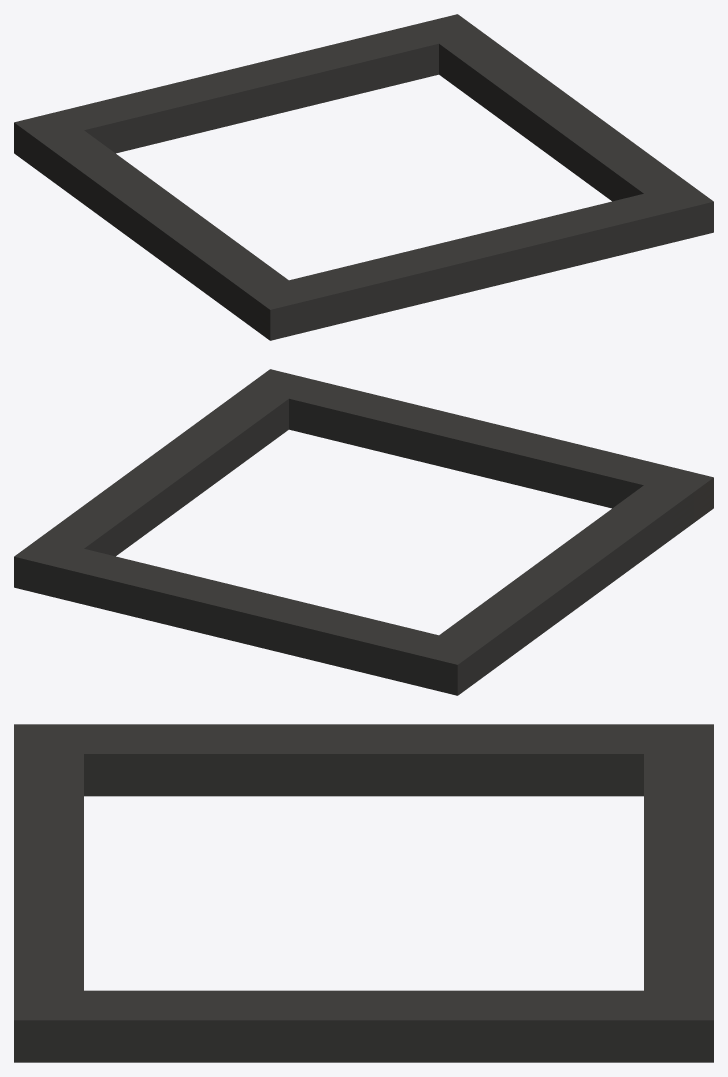
Rendered from reshetkaDoor.fbx.
3 views of the same model, one above another, from view 1: azimuth 30°, elevation 25°; view 2: azimuth 150°, elevation 25°; view 3: azimuth 270°, elevation 25° (orthographic). The views are drawn at different scales.
Parts seen in each view (by area): view 1: Cube; view 2: Cube; view 3: Cube.
Part boxes in pixels (x1=…): Cube: x1=14, y1=14, x2=713, y2=340; Cube: x1=14, y1=369, x2=713, y2=695; Cube: x1=14, y1=724, x2=713, y2=1062.
Size of the model in its own units: 150 by 10 by 150.
